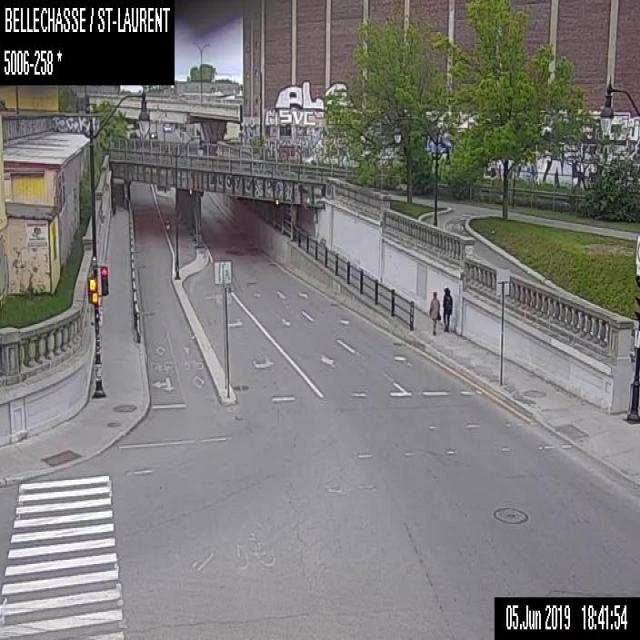pedestrian: (428, 290, 440, 334), (442, 286, 452, 331)
